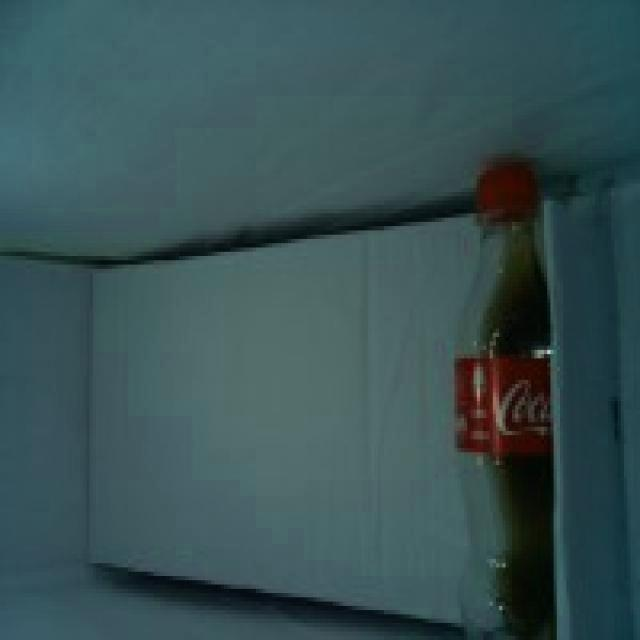bottle: (453, 161, 554, 640)
